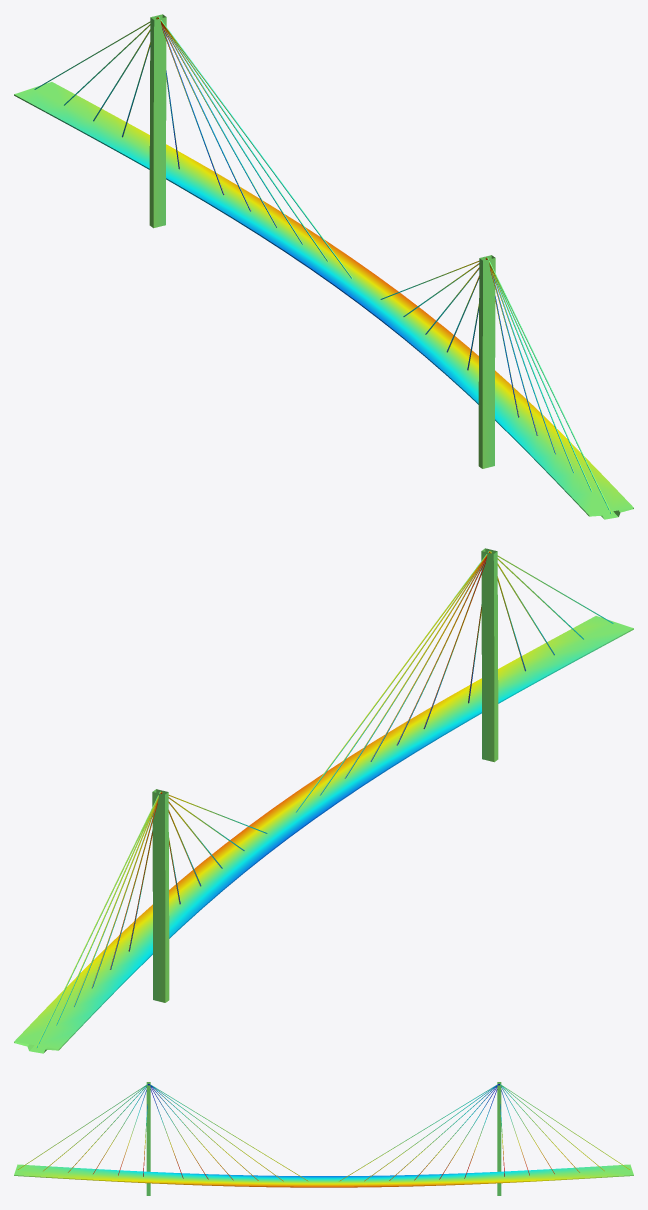
File: Mode1_anim.glb
3 views of the same model, one above another, from view 1: azimuth 30°, elevation 25°; view 2: azimuth 150°, elevation 25°; view 3: azimuth 270°, elevation 25° (orthographic). The views are drawn at different scales.
Parts seen in each view (by area): view 1: Grossbruecken_sem01_loesung_hull_lc101_mode1_ampFactor100; view 2: Grossbruecken_sem01_loesung_hull_lc101_mode1_ampFactor100; view 3: Grossbruecken_sem01_loesung_hull_lc101_mode1_ampFactor100.
Part boxes in pixels (x1,y1,x2,y2): Grossbruecken_sem01_loesung_hull_lc101_mode1_ampFactor100: (14,14,633,519); Grossbruecken_sem01_loesung_hull_lc101_mode1_ampFactor100: (14,548,633,1053); Grossbruecken_sem01_loesung_hull_lc101_mode1_ampFactor100: (14,1082,633,1195).
Bounding box in the file's own units: 10.44 × 24.04 × 122.
1 material, 1 textured.
